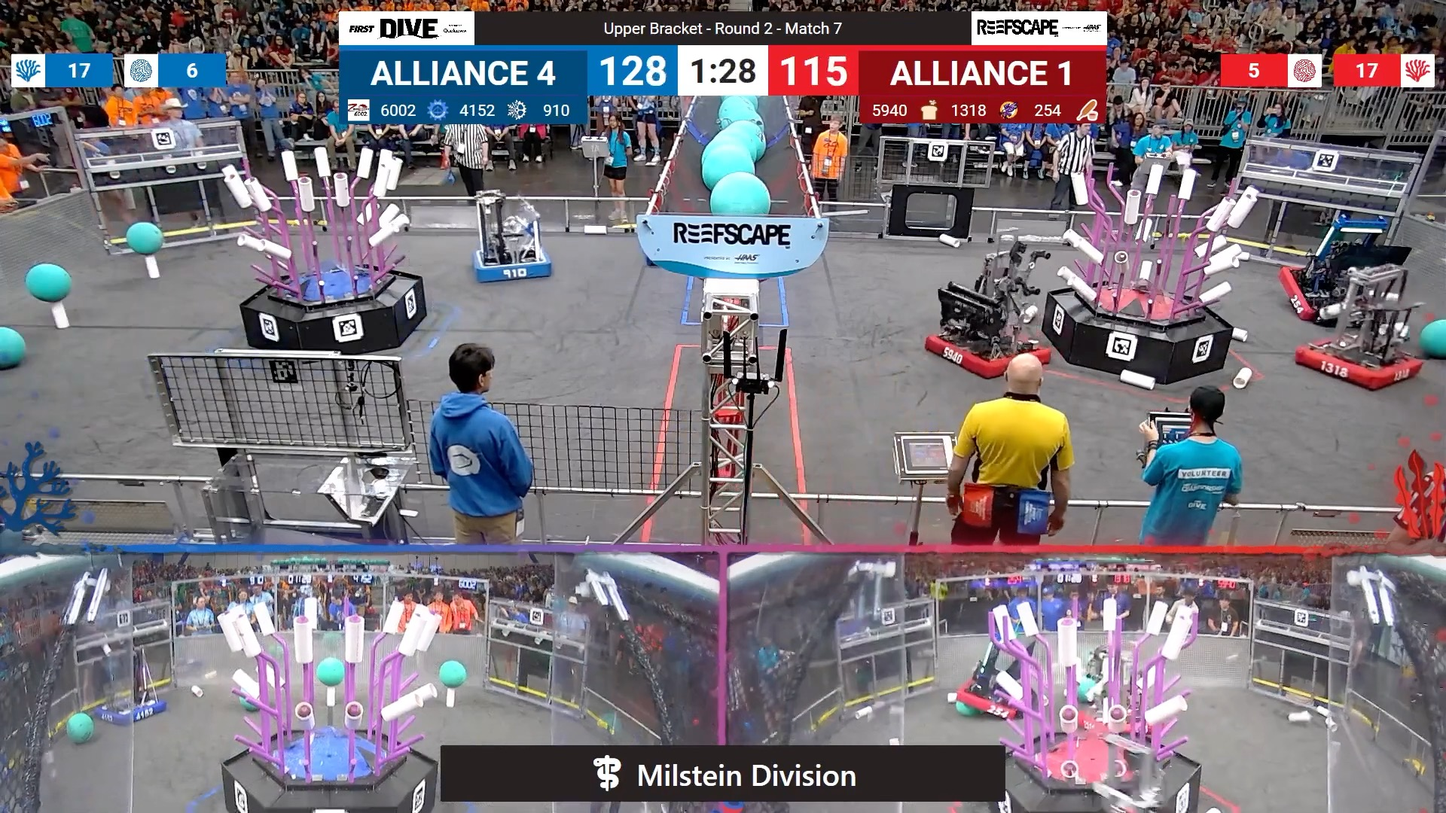bumpers: (1286, 333, 1426, 394), (925, 325, 1056, 381), (1269, 270, 1378, 328), (952, 678, 1038, 725), (469, 245, 562, 286), (88, 695, 173, 732)
